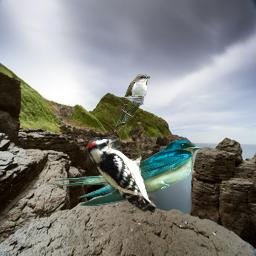Cuckoo: (113, 73, 150, 132)
Swallow: (50, 139, 201, 207)
Woodpecker: (87, 137, 157, 213)
